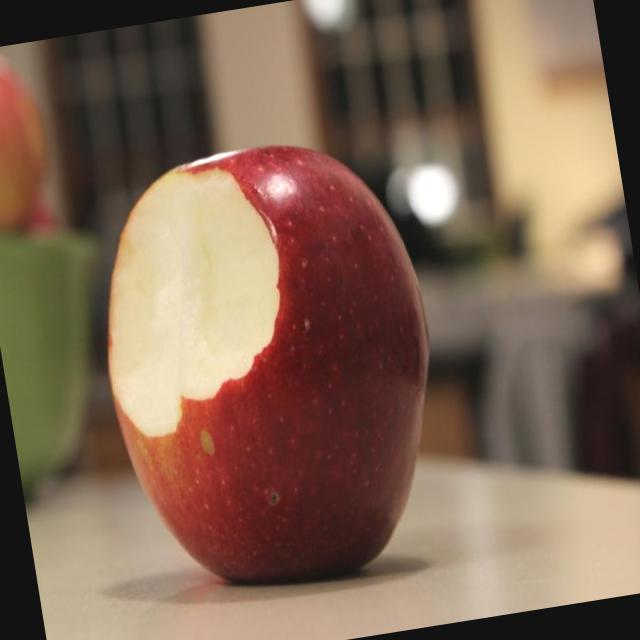Apple: (77, 122, 466, 607), (0, 51, 62, 237)
